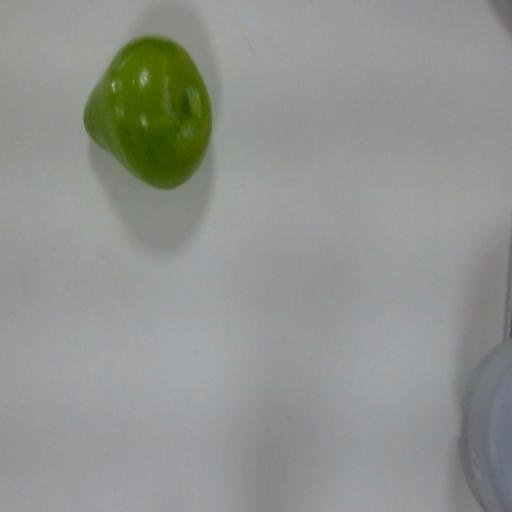Unripe: (79, 31, 219, 201)
